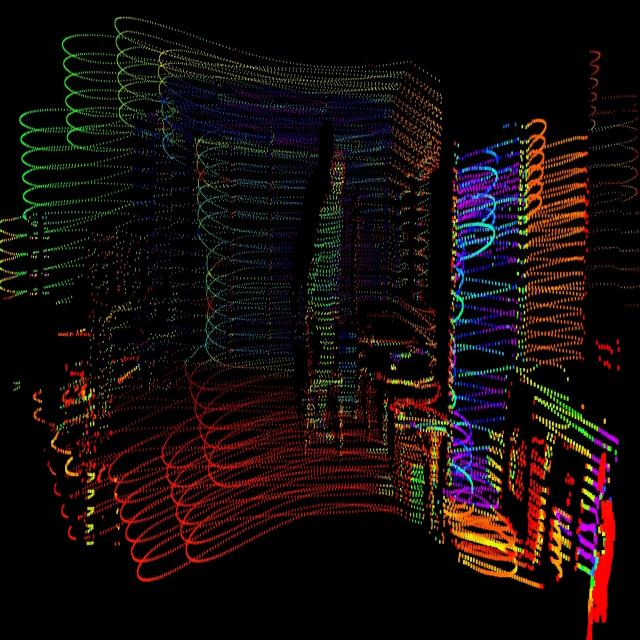human: (302, 146, 353, 466)
